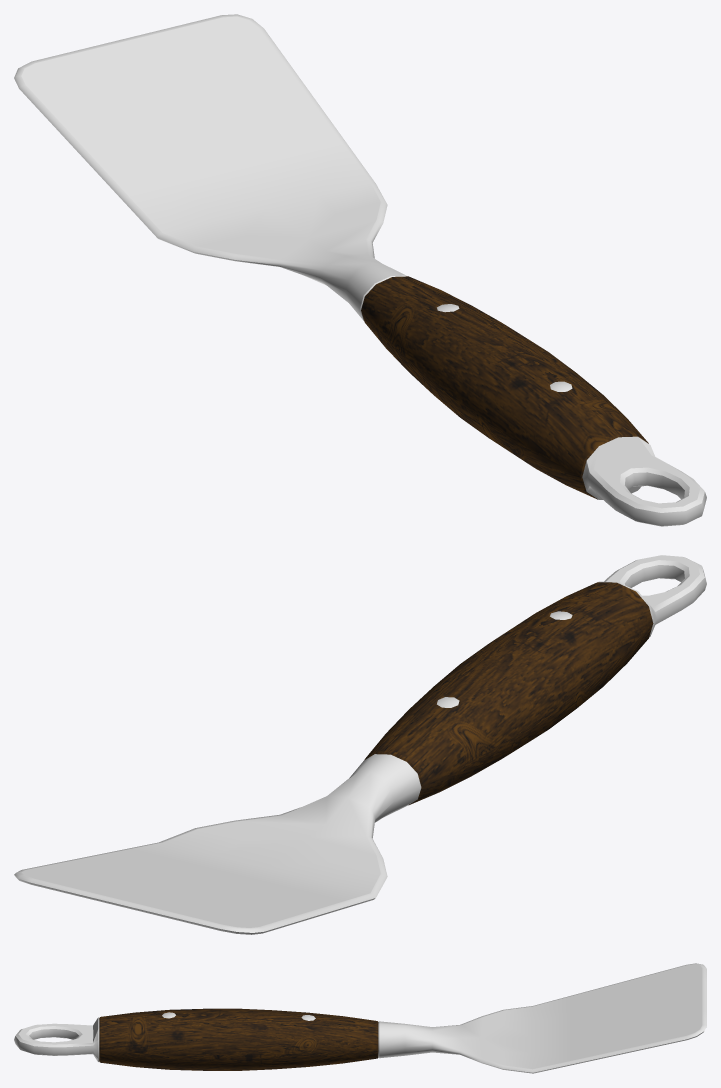
The model's file is spatula.glb.
3 renders of one model, top to bottom at view 1: azimuth 30°, elevation 25°; view 2: azimuth 150°, elevation 25°; view 3: azimuth 270°, elevation 25°, orthographic. The views are drawn at different scales.
Parts seen in each view (by area): view 1: 004_Kitchen Tools_Ultensils_WH_Spatula; view 2: 004_Kitchen Tools_Ultensils_WH_Spatula; view 3: 004_Kitchen Tools_Ultensils_WH_Spatula.
Part boxes in pixels (x1,y1,x2,y2): 004_Kitchen Tools_Ultensils_WH_Spatula: [14, 14, 706, 526]; 004_Kitchen Tools_Ultensils_WH_Spatula: [14, 555, 706, 934]; 004_Kitchen Tools_Ultensils_WH_Spatula: [14, 963, 706, 1073].
Size of the model in its own units: 0.058 by 0.0256 by 0.23.
Materials: 1 (1 with a texture image).
